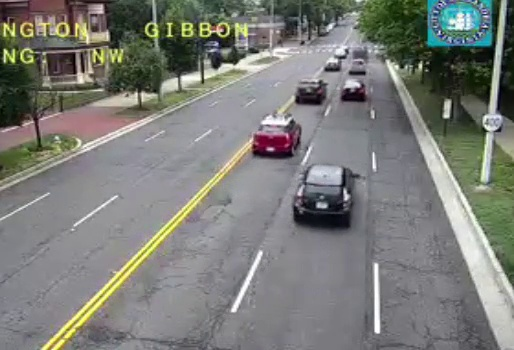car: (292, 164, 354, 218), (252, 116, 302, 153), (296, 79, 326, 101), (342, 80, 365, 100)
